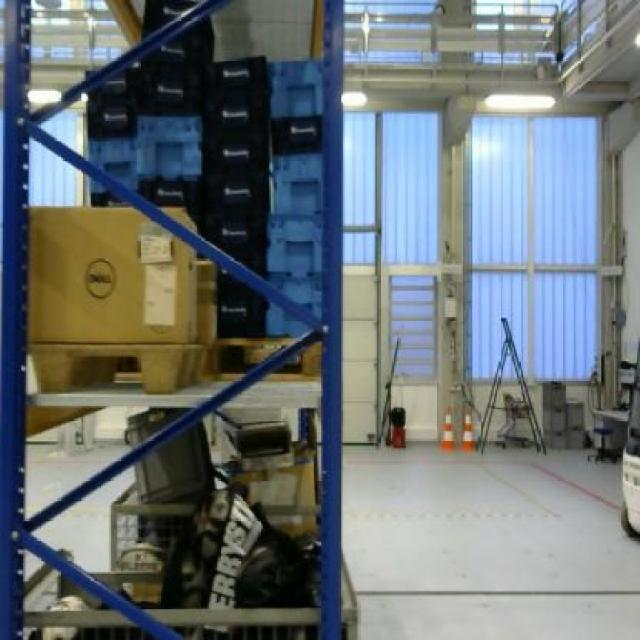box: (28, 202, 197, 340)
